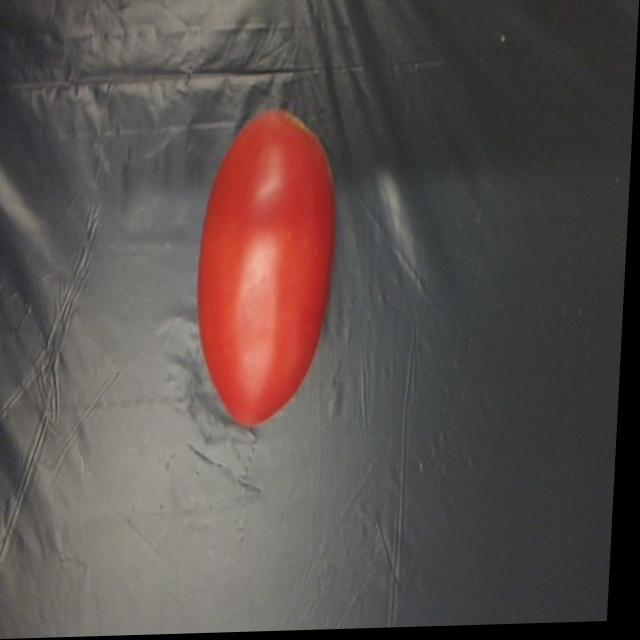kirmizi: (191, 96, 357, 433)
